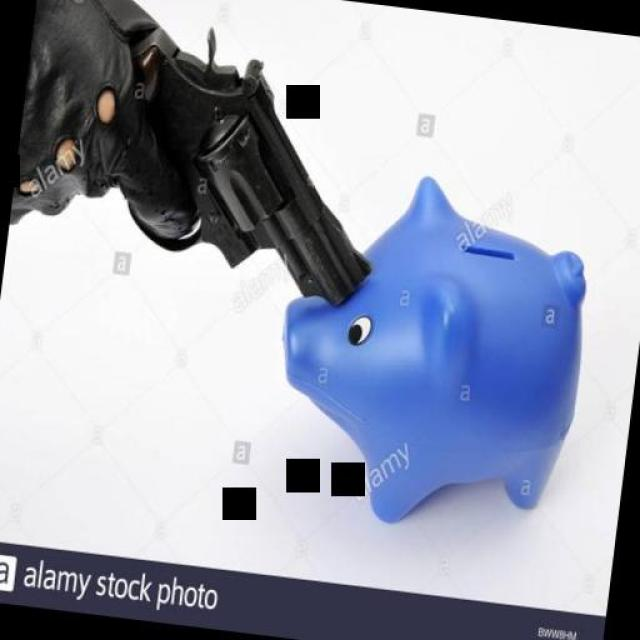gun: (45, 9, 405, 319)
